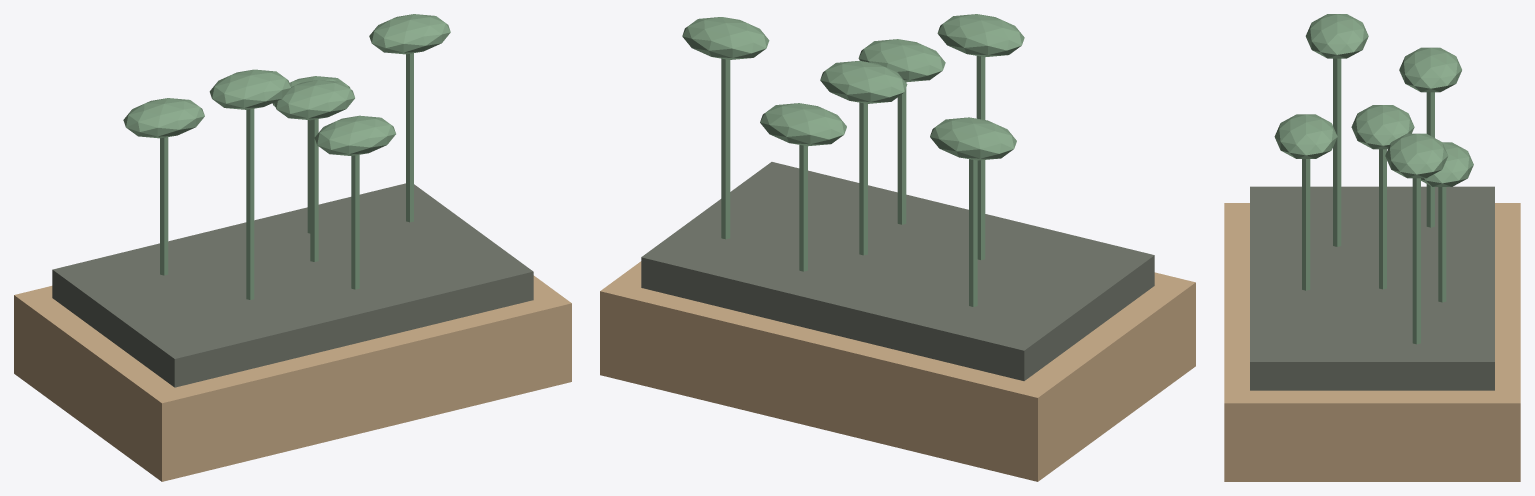
File: roof_garden_03.glb
3 views of the same model, side by side, from view 1: azimuth 30°, elevation 25°; view 2: azimuth 150°, elevation 25°; view 3: azimuth 270°, elevation 25° (orthographic). The views are drawn at different scales.
Visible parts, largest first — view 1: soil, bed, leaf3, leaf2, leaf4, leaf1, leaf0, stem2, stem3, stem0, stem4, stem1; view 2: soil, bed, leaf4, leaf2, leaf0, leaf5, leaf3, leaf1, stem3, stem2, stem0, stem4 (+2 smaller); view 3: soil, bed, leaf3, leaf4, leaf2, leaf1, leaf0, stem2, stem3, leaf5, stem1, stem0 (+2 smaller).
Boxes of the visible parts, bbox=[...] form: soil: bbox=[52, 183, 533, 387]; bed: bbox=[14, 275, 571, 481]; leaf3: bbox=[369, 14, 450, 54]; leaf2: bbox=[209, 69, 290, 109]; leaf4: bbox=[123, 98, 204, 138]; leaf1: bbox=[314, 115, 395, 155]; leaf0: bbox=[274, 80, 354, 120]; stem2: bbox=[246, 108, 254, 299]; stem3: bbox=[406, 53, 413, 222]; stem0: bbox=[310, 119, 318, 261]; stem4: bbox=[160, 137, 168, 275]; stem1: bbox=[351, 155, 359, 289]; soil: bbox=[641, 162, 1154, 380]; bed: bbox=[600, 261, 1195, 481]; leaf4: bbox=[930, 117, 1016, 160]; leaf2: bbox=[937, 14, 1024, 57]; leaf0: bbox=[820, 60, 907, 103]; leaf5: bbox=[760, 103, 846, 146]; leaf3: bbox=[682, 17, 769, 59]; leaf1: bbox=[858, 39, 945, 82]; stem3: bbox=[721, 58, 730, 239]; stem2: bbox=[976, 56, 985, 260]; stem0: bbox=[859, 102, 867, 255]; stem4: bbox=[969, 159, 977, 306]; soil: bbox=[1250, 186, 1494, 390]; bed: bbox=[1224, 203, 1520, 481]; leaf3: bbox=[1385, 133, 1448, 178]; leaf4: bbox=[1399, 47, 1461, 92]; leaf2: bbox=[1305, 14, 1368, 58]; leaf1: bbox=[1274, 114, 1337, 158]; leaf0: bbox=[1351, 105, 1414, 149]; stem2: bbox=[1333, 58, 1341, 246]; stem3: bbox=[1412, 178, 1420, 344]; leaf5: bbox=[1421, 142, 1473, 186]; stem1: bbox=[1302, 159, 1310, 290]; stem0: bbox=[1379, 149, 1386, 289].
Size of the model in its own units: 1.2 by 0.9229 by 0.75.
